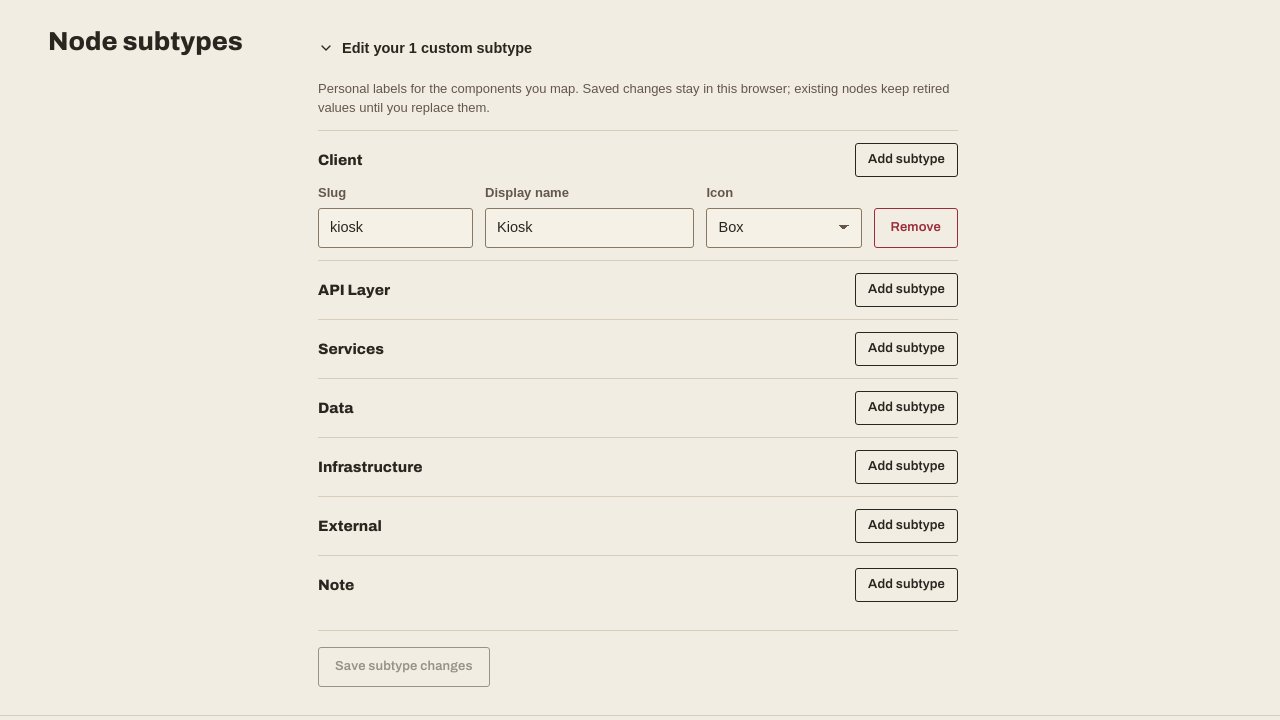
Test: CustomSubtypesSettings › stages structured edits and saves the whole catalog to the injected browser vault
This screenshot has width=1280, height=720.
Expected: the button "Save subtype changes" is disabled, [318,647,490,687]
Replace the text in the field named "Client subtype 1 slug" with "store-kiosk": [396, 228] box [318,208,473,248]
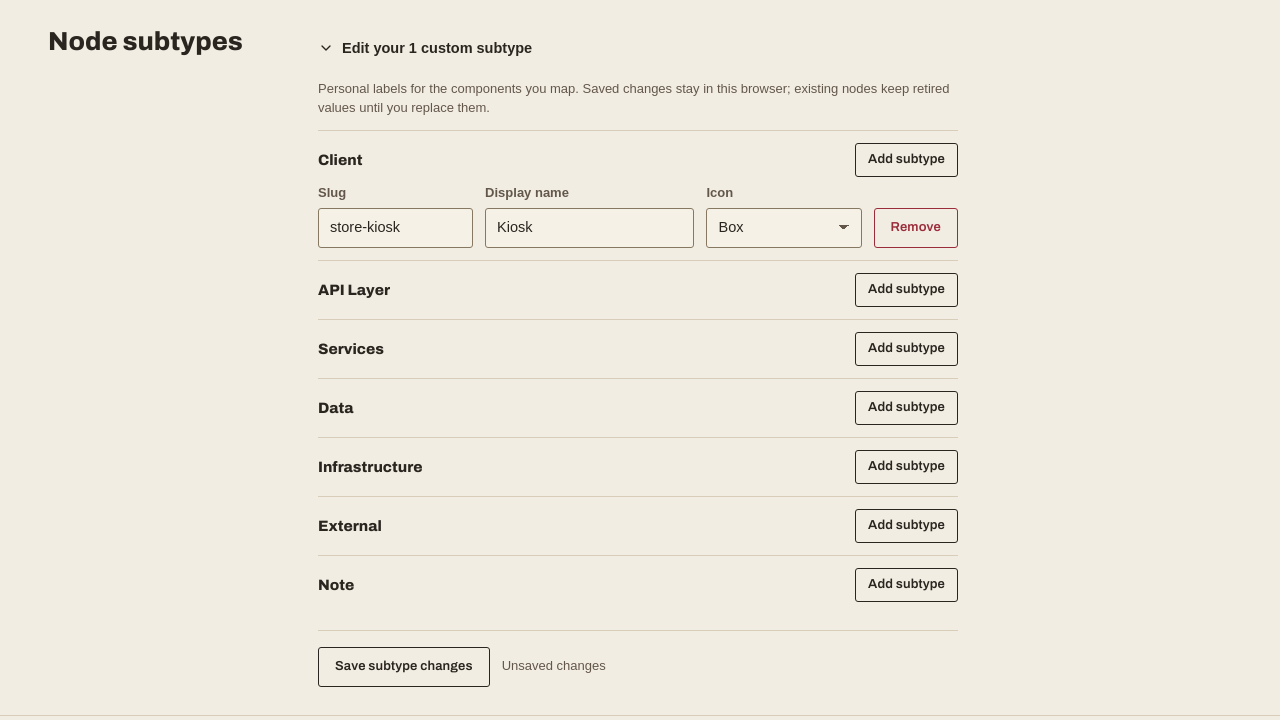
Replace the text in the field named "Client subtype 1 display name" with "Store kiosk": [590, 228] box [485,208,694,248]
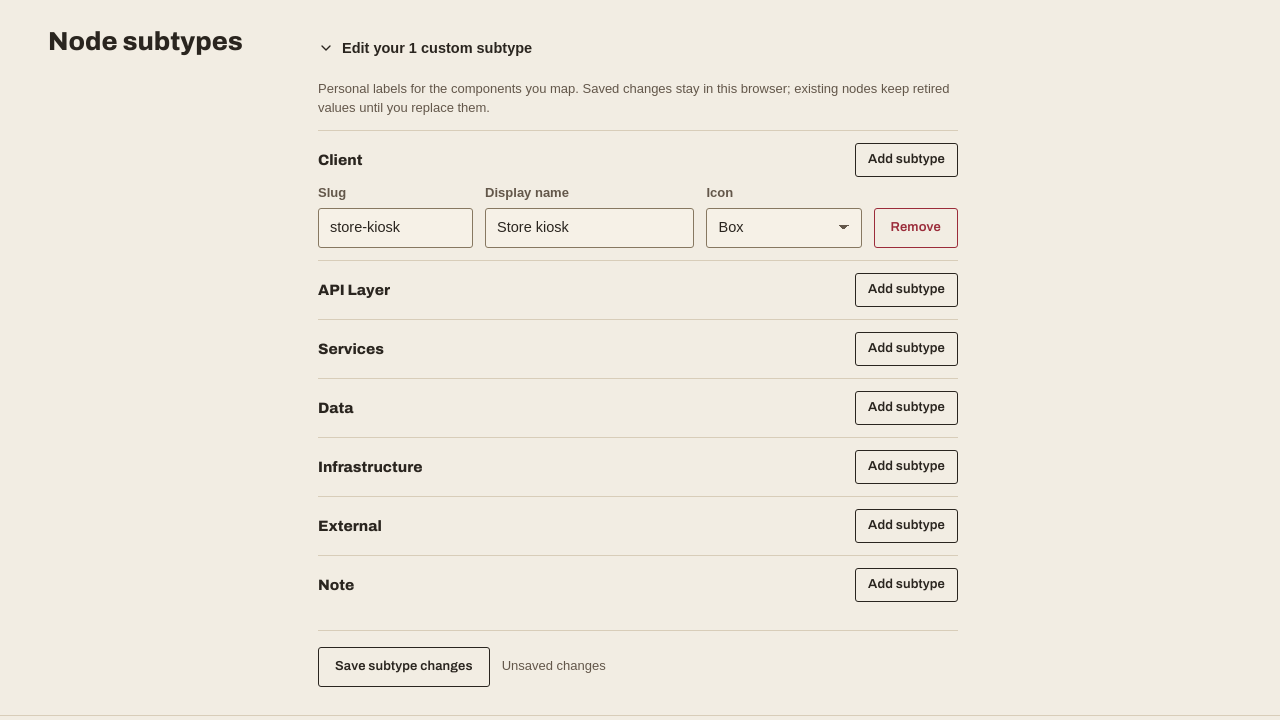
Click the button "Save subtype changes": [404, 667] box [318,647,490,687]
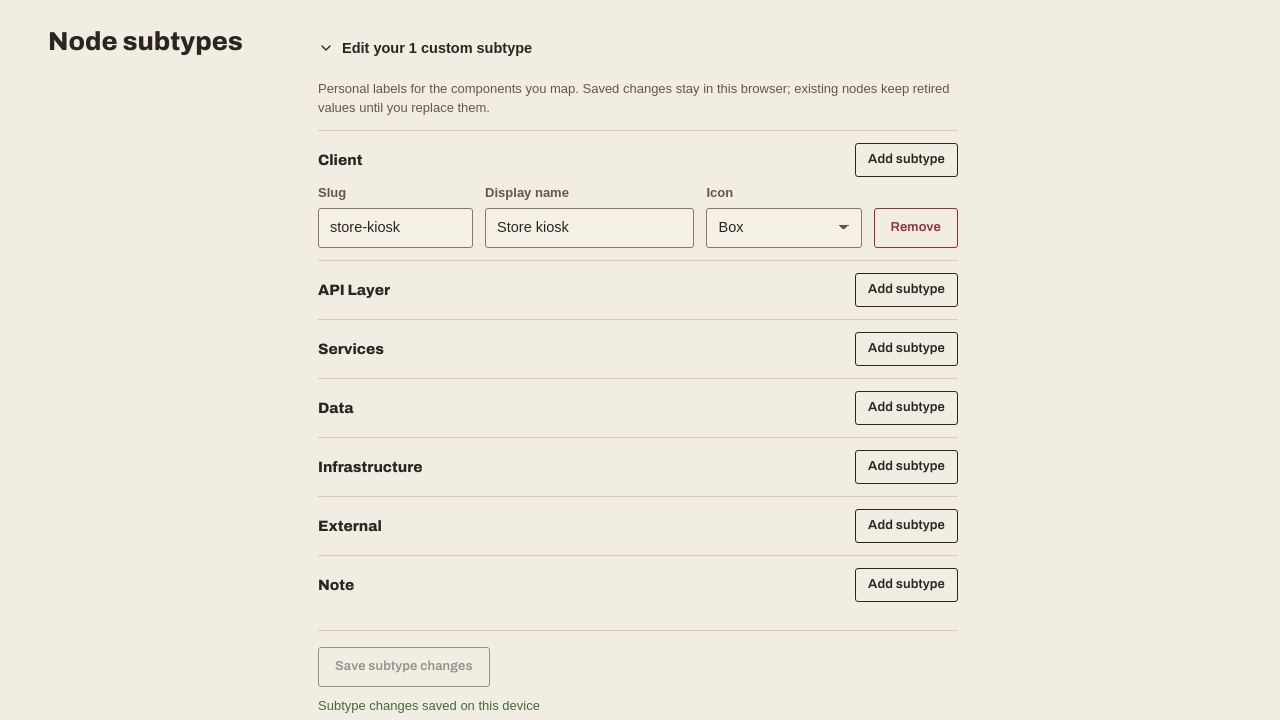
Expected: the message shows "saved on this device", [318,698,540,713]
Expected: the button "Save subtype changes" is disabled, [318,647,490,687]
